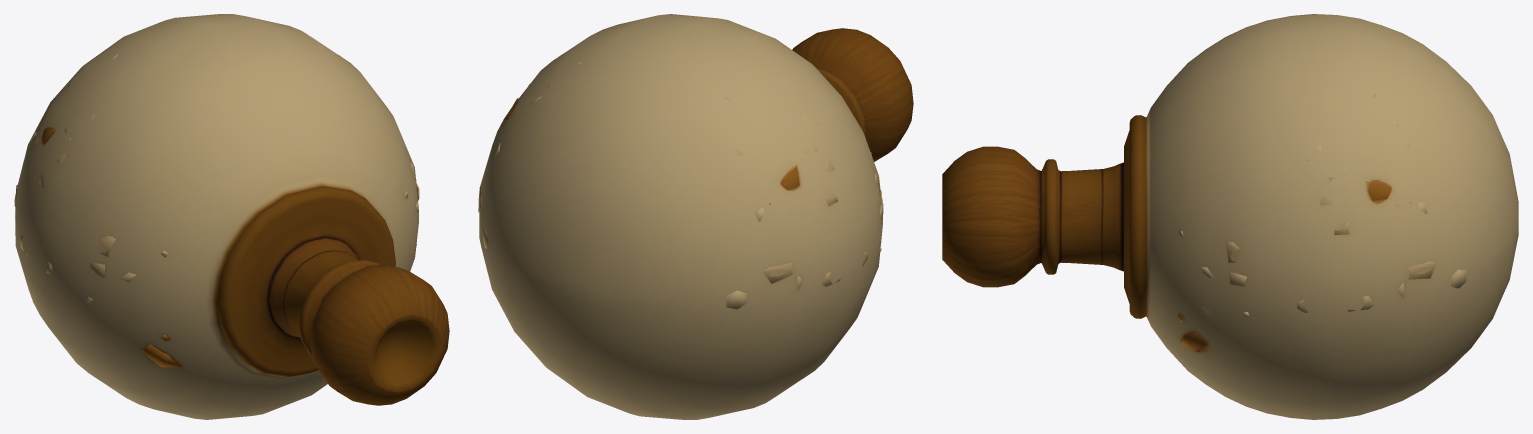
The model's file is sootglass_bead.glb.
The picture shows the model from 3 angles, left to right: view 1: azimuth 30°, elevation 25°; view 2: azimuth 150°, elevation 25°; view 3: azimuth 270°, elevation 25°; orthographic projection.
Visible parts, largest first — view 1: base_model_path; view 2: base_model_path; view 3: base_model_path.
Boxes of the visible parts, x1=… form: base_model_path: x1=14, y1=14, x2=449, y2=419; base_model_path: x1=478, y1=14, x2=913, y2=419; base_model_path: x1=942, y1=14, x2=1518, y2=419.
Bounding box in the file's own units: 0.7099 × 0.7059 × 0.9993.
1 material, 1 textured.
